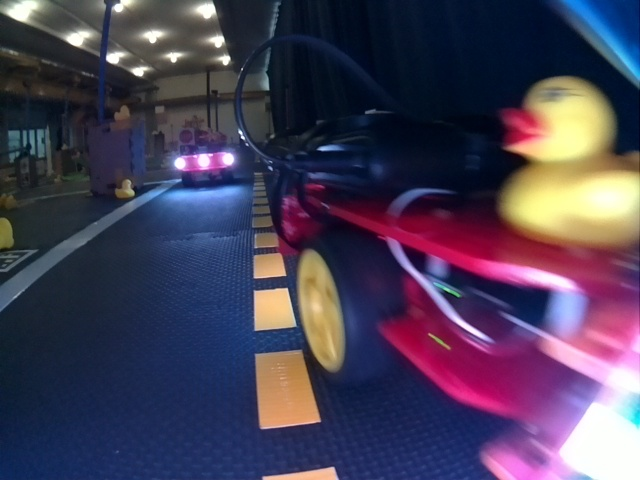Duckie: (505, 77, 638, 247), (1, 217, 15, 246), (115, 179, 134, 198), (115, 105, 130, 119)
Duckiebot: (264, 111, 634, 471), (175, 147, 234, 184)
